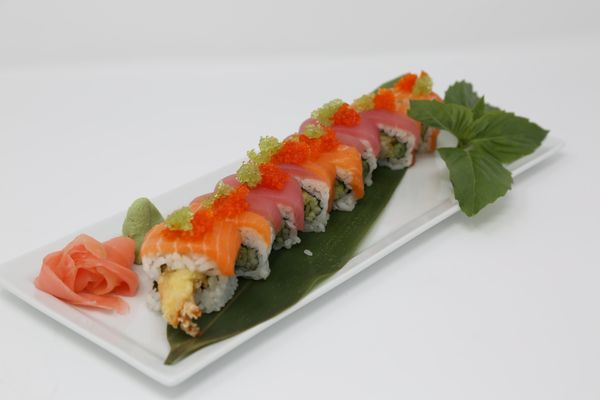pizza: (33, 233, 139, 310)
